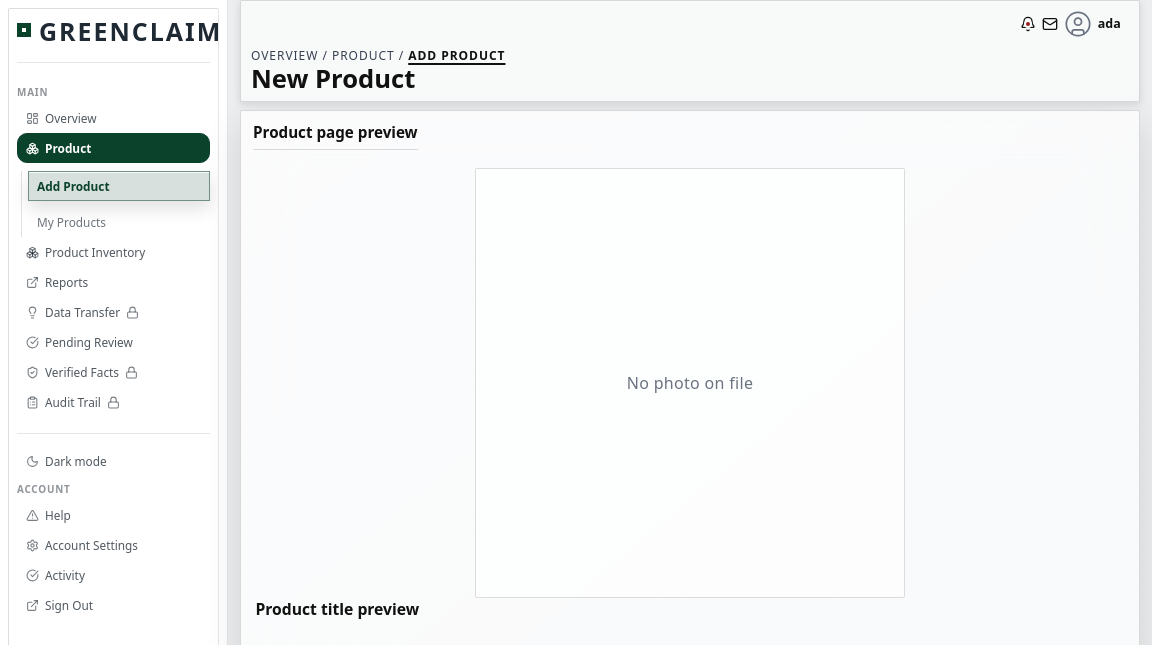
Test: a Copywriter › a product in review opens editable live, with Withdraw still offered as an alternative
What coordinates should you click on to do the following:
click the button "My Products"
I would click on:
 (119, 222)
Its box is [28, 207, 210, 237].
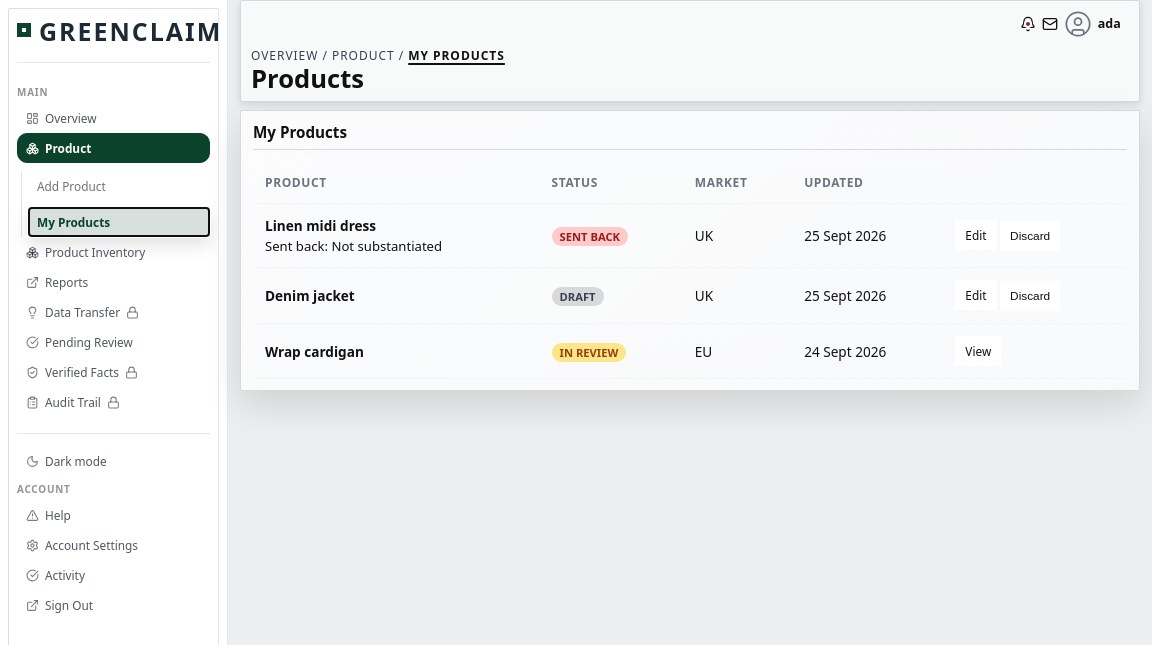
What coordinates should you click on to do the following:
click the button "View"
I would click on:
 (978, 351)
Its box is [955, 336, 1001, 366].
(page scrolled)
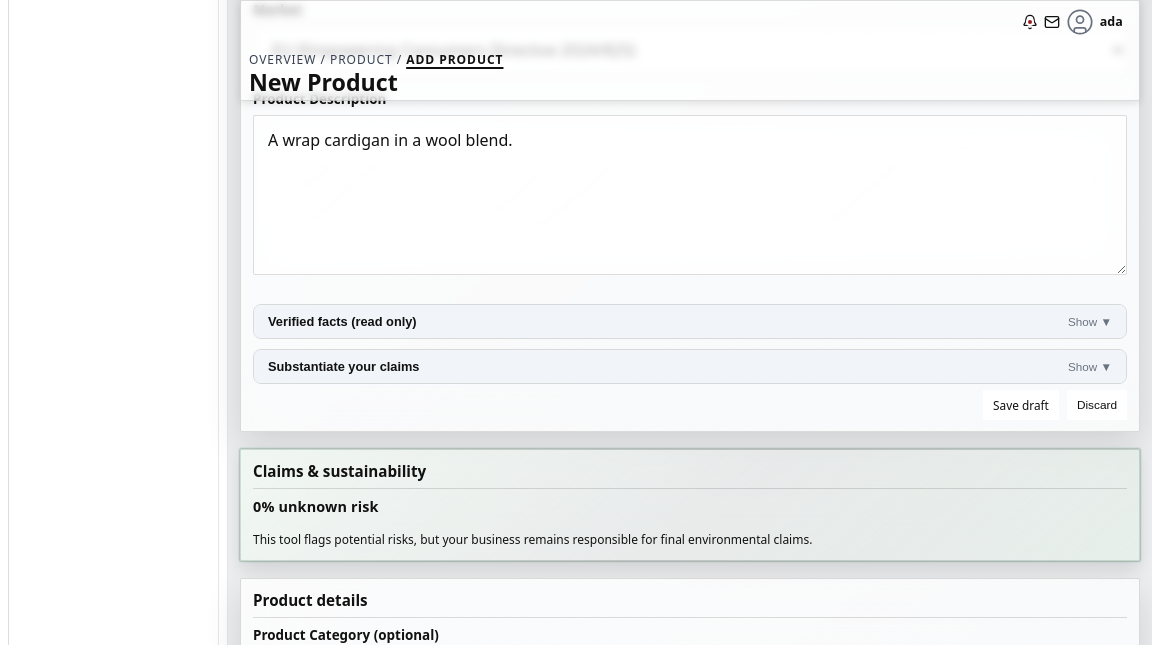
Expected: the text box labelled "Product Description" holds "A wrap cardigan in a wool blend.", [253, 115, 1127, 275]
Expected: the dropdown labelled "Market" is enabled, [253, 25, 1127, 76]
Expected: the button "Save draft" is disabled, [983, 390, 1059, 420]
